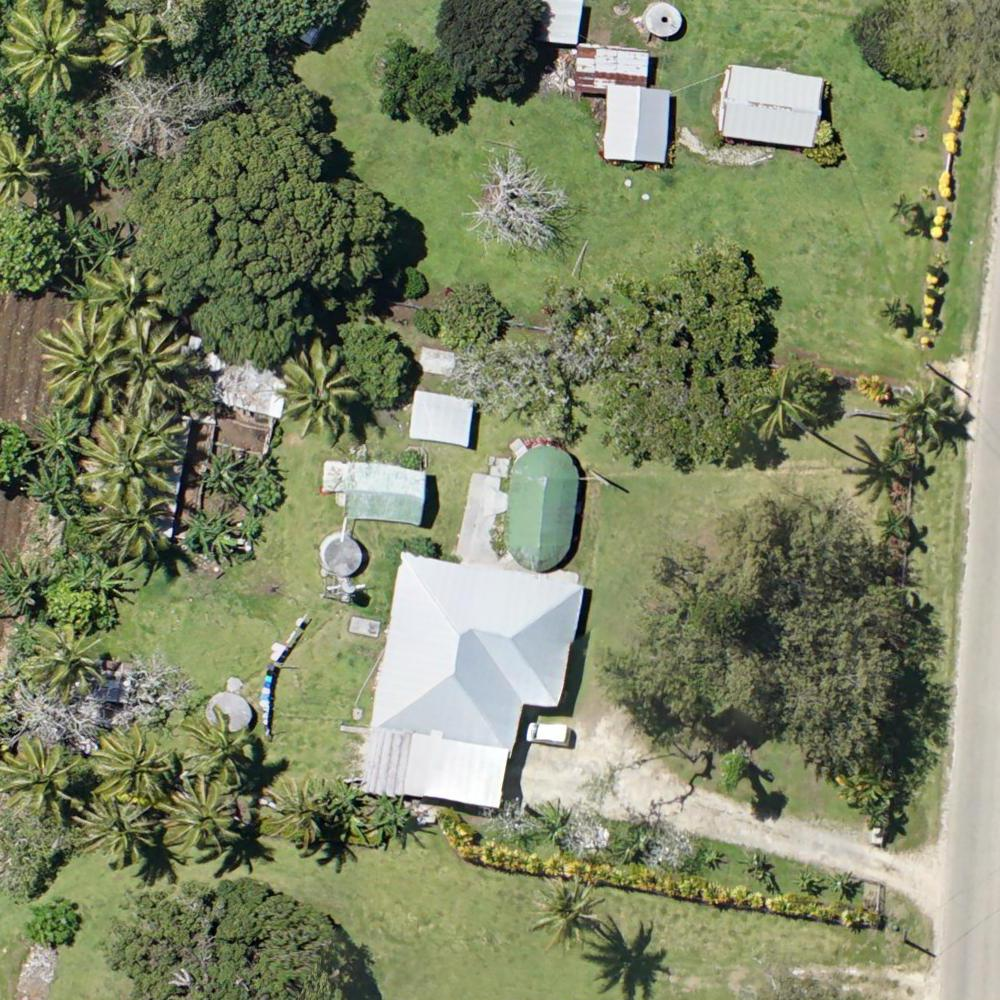Palm: (38, 306, 135, 409), (80, 415, 187, 507), (278, 344, 368, 439), (1, 7, 97, 94), (82, 478, 186, 558), (109, 314, 196, 407), (85, 721, 178, 800), (150, 784, 243, 860), (1, 733, 85, 813), (76, 792, 162, 869), (170, 709, 255, 786), (22, 623, 104, 702), (80, 259, 164, 332), (536, 874, 612, 945), (893, 381, 964, 450), (97, 12, 168, 79), (753, 367, 818, 438), (263, 781, 337, 843)
